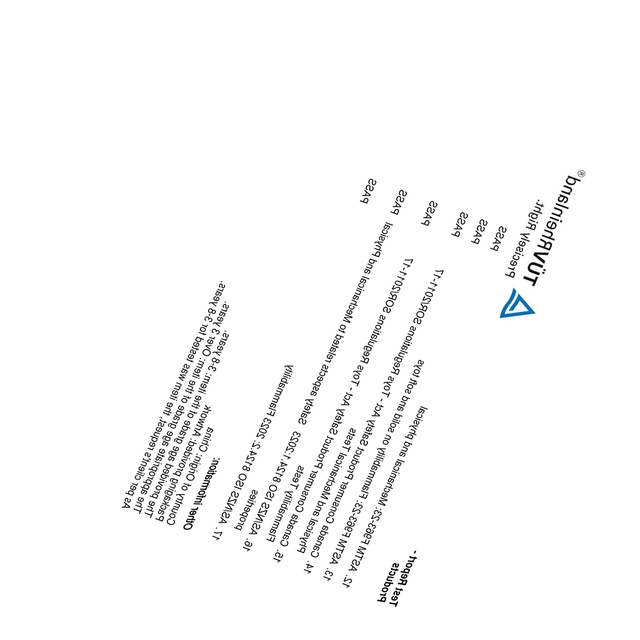tuv_rheinland: (498, 166, 587, 321)
